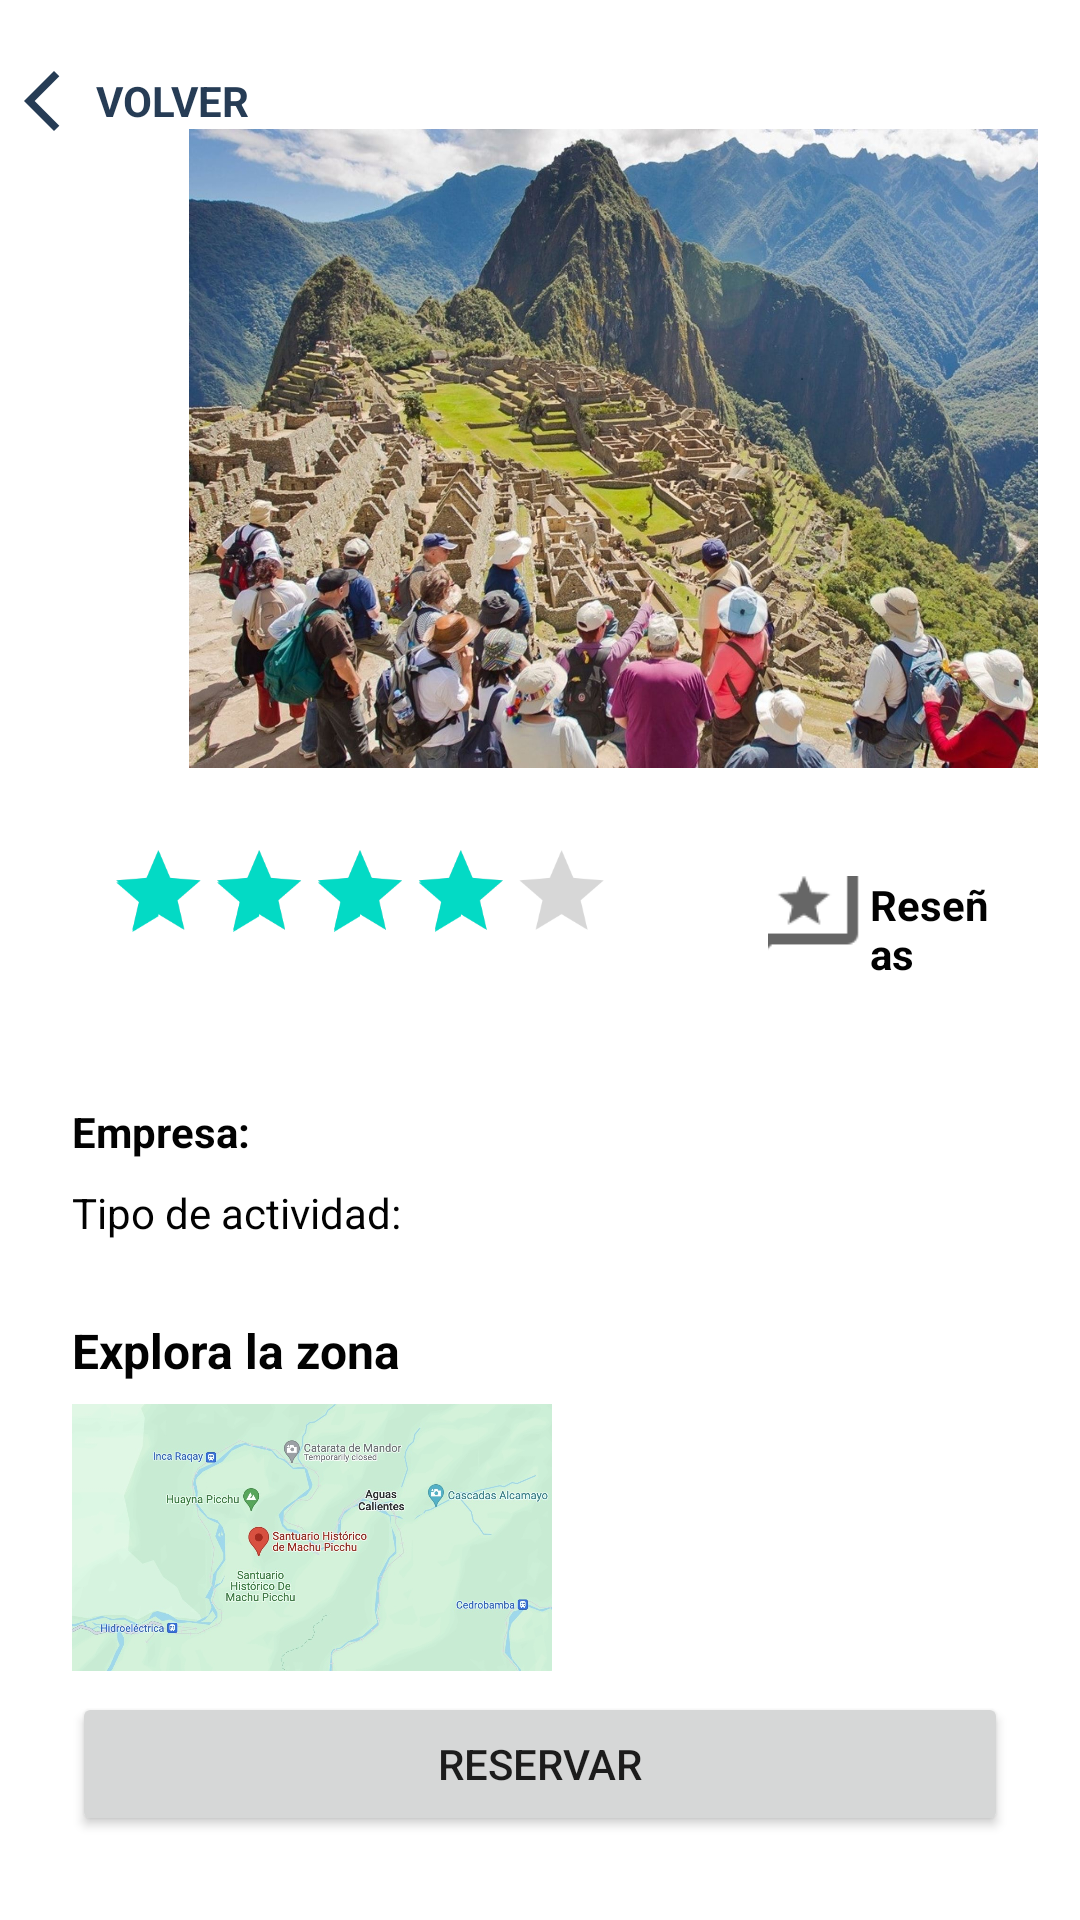

Screen size 1080px x 1920px. Icon name, then its box in pixels as (x1, y1, x2, y2):
arrow back: (24, 71, 59, 131)
